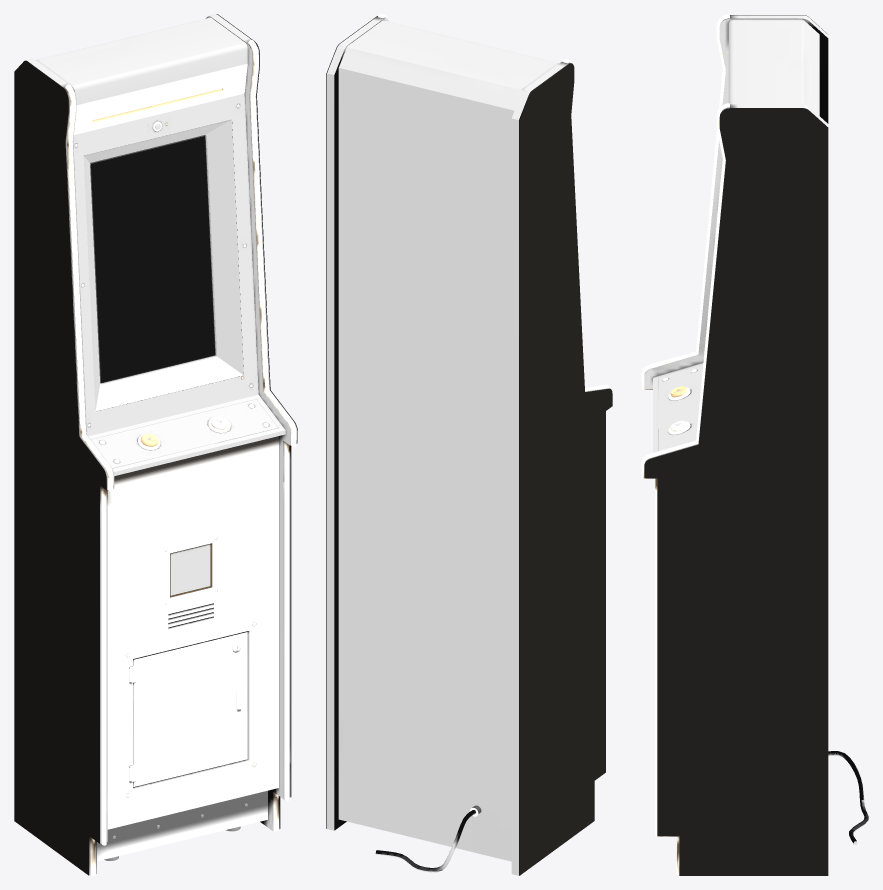
Rendered from mach-safeplate-v2.glb.
3 renders of one model, left to right at view 1: azimuth 30°, elevation 25°; view 2: azimuth 150°, elevation 25°; view 3: azimuth 270°, elevation 25°, orthographic.
Parts seen in each view (by area): view 1: body, side_art_l, screen, glass, trim, side_art_r, metal; view 2: body, side_art_l, side_art_r, cable; view 3: side_art_r, body, trim, cable.
Part boxes in pixels (x1,y1,x2,y2): body: (26, 14, 297, 875); side_art_l: (14, 60, 106, 875); screen: (91, 136, 215, 382); glass: (92, 136, 216, 383); trim: (65, 39, 296, 875); side_art_r: (216, 14, 297, 828); metal: (75, 104, 268, 860); body: (327, 16, 609, 875); side_art_l: (519, 63, 612, 875); side_art_r: (326, 16, 377, 828); cable: (375, 810, 475, 872); side_art_r: (644, 108, 828, 875); body: (644, 15, 828, 464); trim: (641, 14, 729, 874); cable: (828, 751, 868, 844).
Size of the model in its own units: 0.503 by 1.94 by 0.5192.
Materials: 19 (6 with a texture image).
